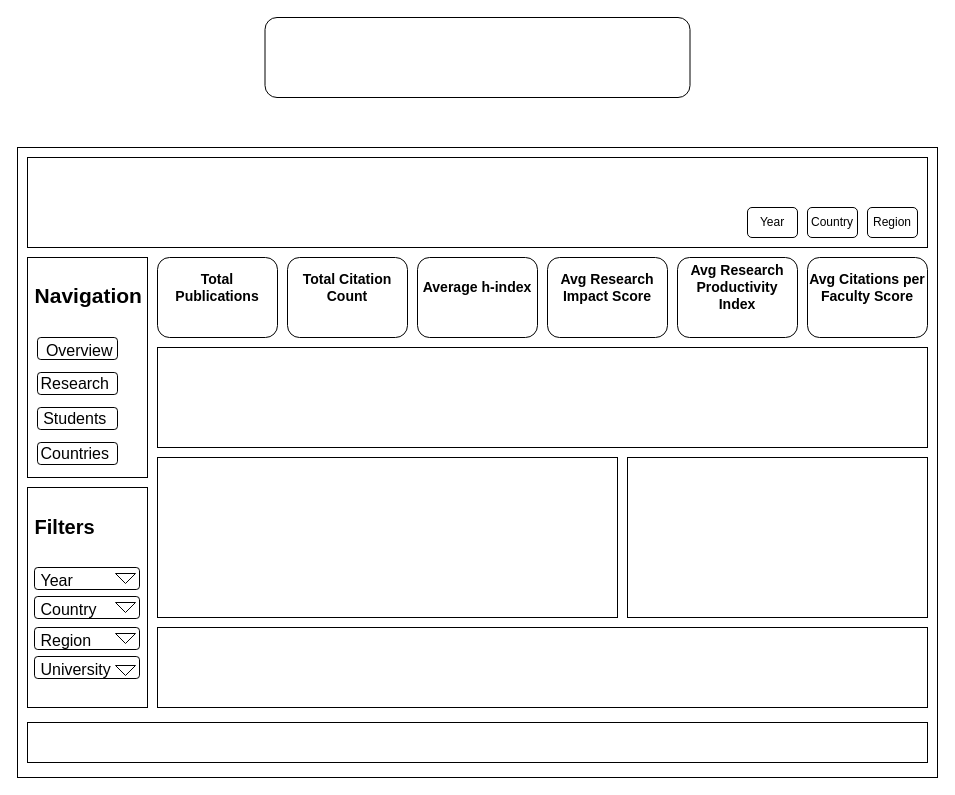
Some shapes in this 955 by 795 pixel diagram are drawn without their labels. Each missing label, with the box of its shape:
Data Sources: QS • THE • ARWU: (26, 722, 928, 762)
EduVision Dashboard Higher Education Performance Dashboard: (26, 156, 928, 248)
Publications vs Citations (Scatter Plot): (156, 456, 618, 618)
Research Analytics Dashboard: (264, 16, 690, 98)
Research Performance Table: (156, 626, 928, 708)
Research Productivity Trend (Line Chart): (626, 456, 928, 618)
Top 10 Universities by Research Impact Score (Horizontal Bar): (156, 346, 928, 448)
